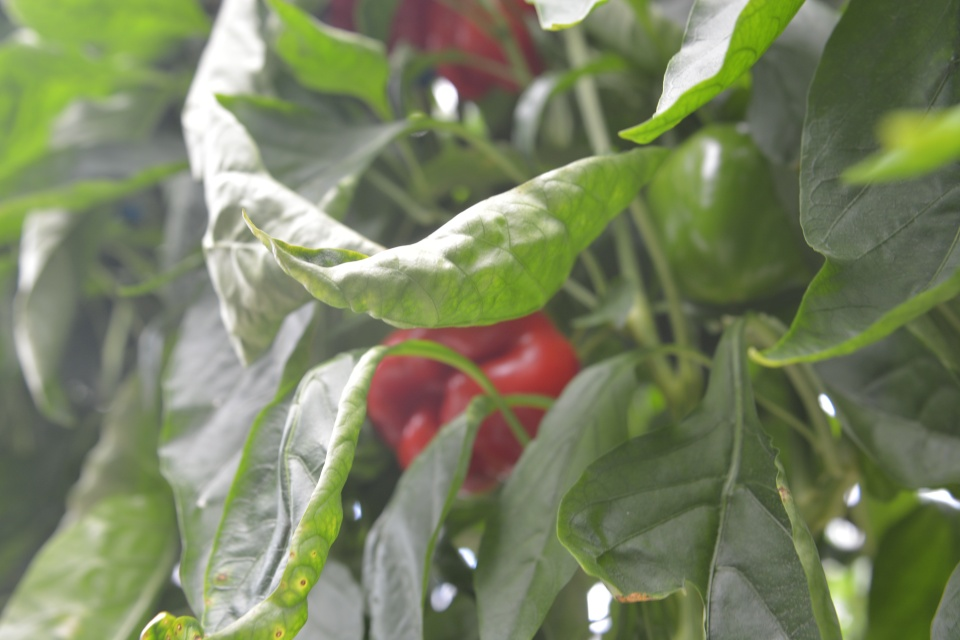fruit: (364, 307, 582, 495), (644, 120, 814, 307), (320, 0, 548, 104)
